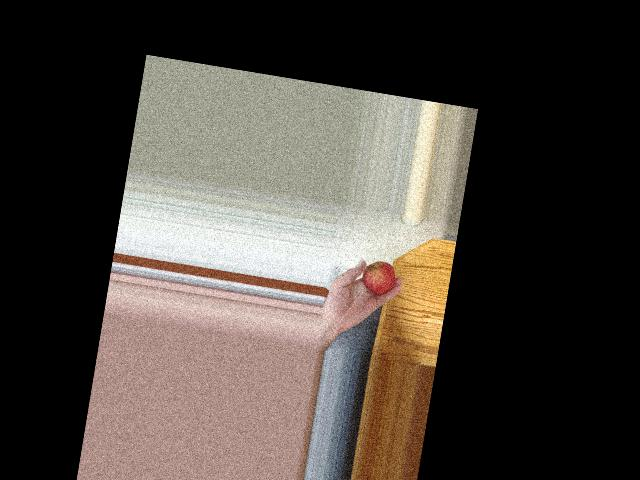apple: (357, 258, 396, 298)
